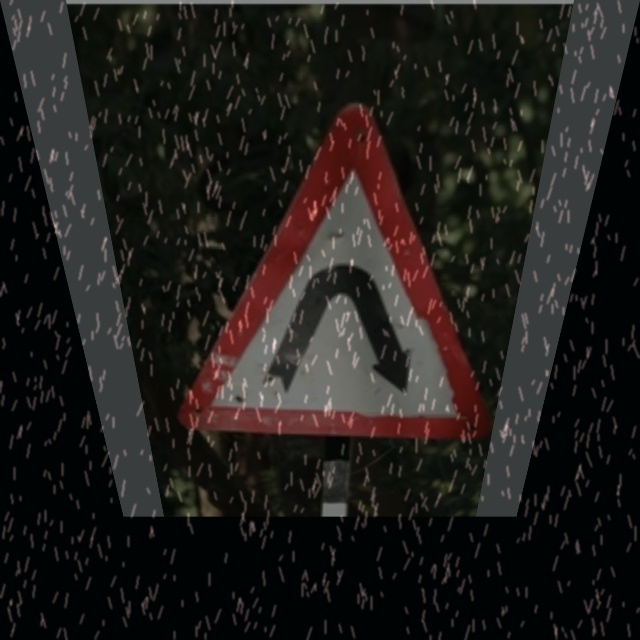Right_Hair_Pin_Bend: (134, 106, 534, 438)
